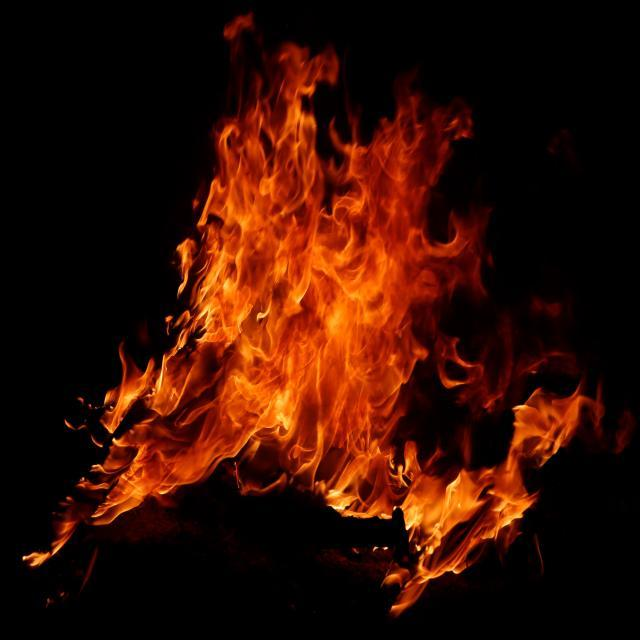Fire: (146, 0, 594, 597)
